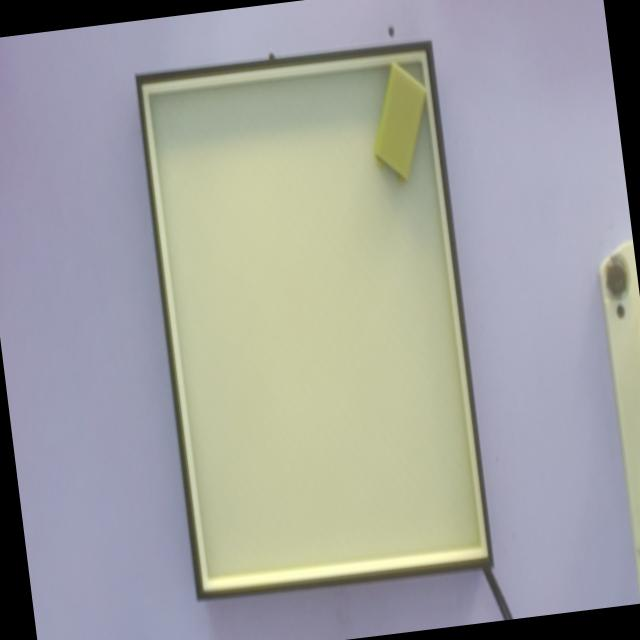bateria: (373, 61, 426, 186)
mesa: (135, 39, 493, 598)
